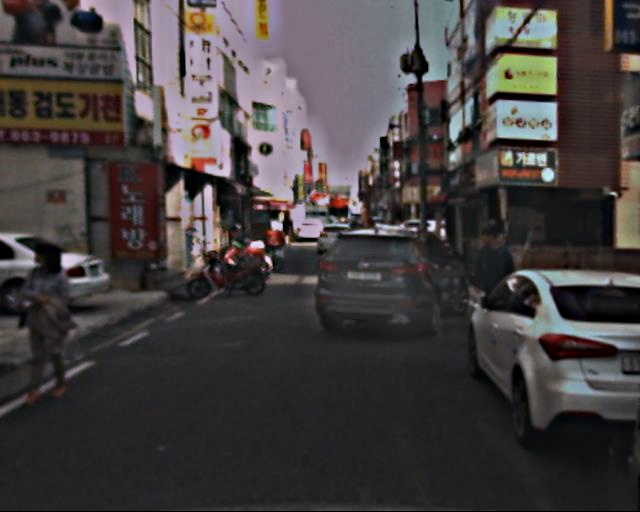person: (13, 235, 101, 405), (469, 227, 523, 340)
